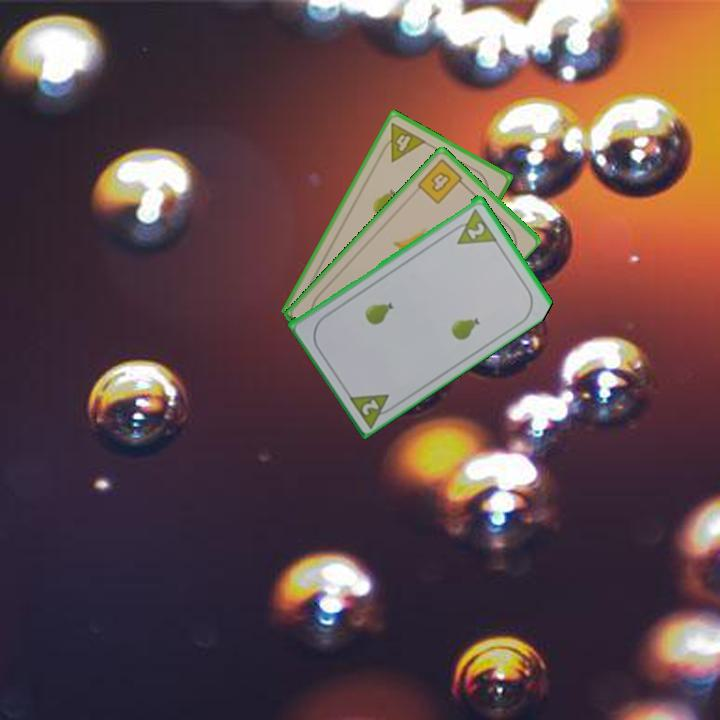2p: (446, 204, 499, 247), (344, 390, 400, 430)
4b: (414, 155, 469, 207)
4p: (376, 119, 429, 165)
